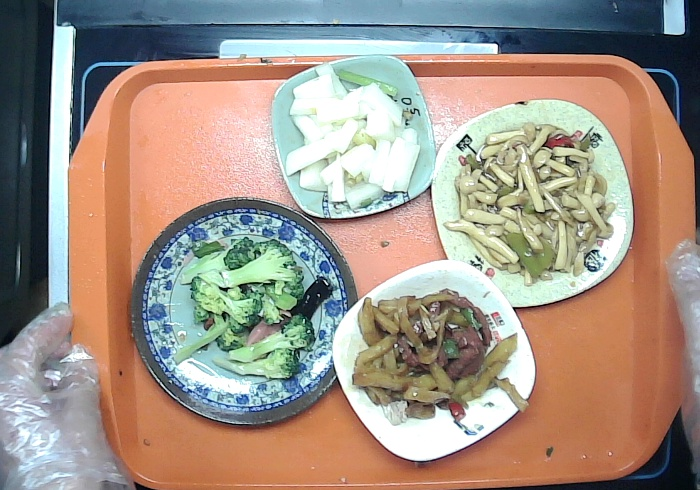NLDX-Bai_Se_Xiao_Fang_Die: (331, 260, 534, 462)
NLDX-Fu_Zi_Fang_Die: (429, 96, 634, 309)
NLDX-Qing_Hua_Xiao_Fang_Die: (269, 52, 433, 219)
NLDX-Qing_Hua_Yuan_Die: (136, 201, 357, 429)
